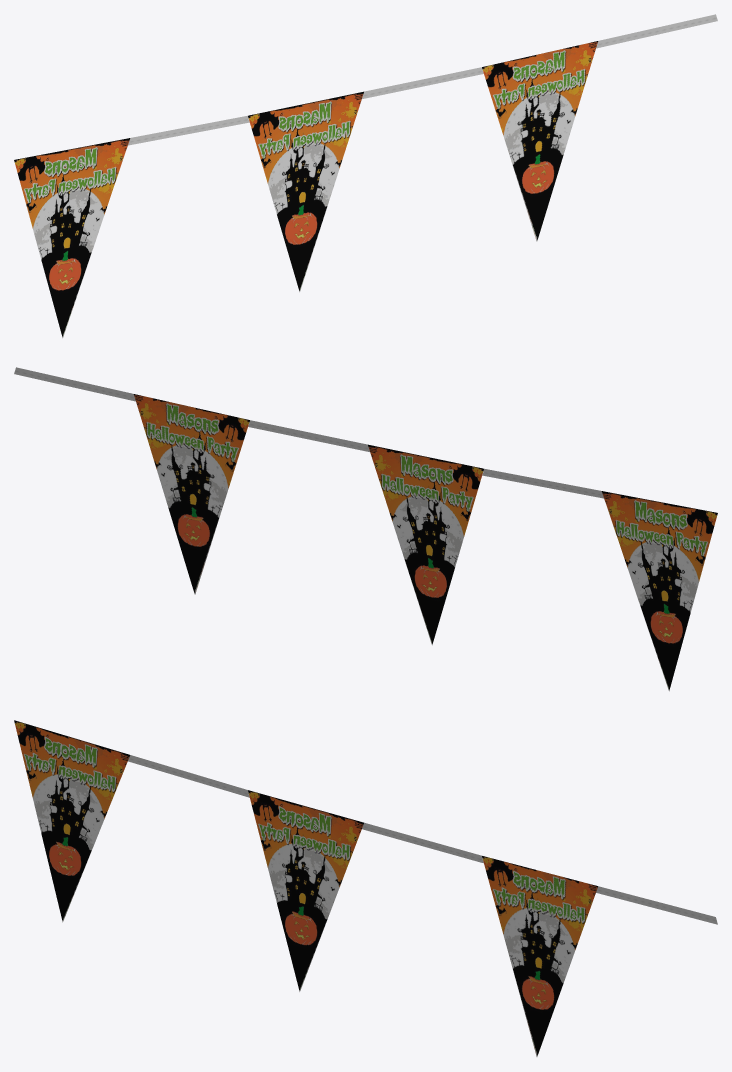
The model's file is HW_FlagOrange.fbx.
3 renders of one model, top to bottom at view 1: azimuth 30°, elevation 25°; view 2: azimuth 150°, elevation 25°; view 3: azimuth 330°, elevation 25°, orthographic.
Parts seen in each view (by area): view 1: HW_FlagOrange; view 2: HW_FlagOrange; view 3: HW_FlagOrange.
Boxes of the visible parts, left/top/right/bottom form: HW_FlagOrange: left=14, top=14, right=717, bottom=338; HW_FlagOrange: left=14, top=367, right=717, bottom=691; HW_FlagOrange: left=14, top=720, right=717, bottom=1056.
Size of the model in its own units: 2 by 0.5712 by 0.
Materials: 1 (1 with a texture image).
